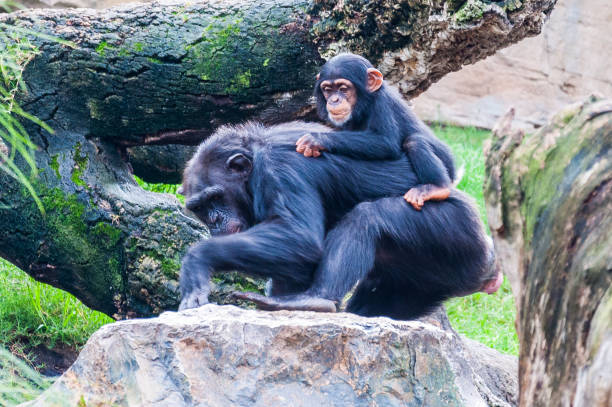chimpanzee: (139, 127, 261, 249), (293, 45, 390, 141)
